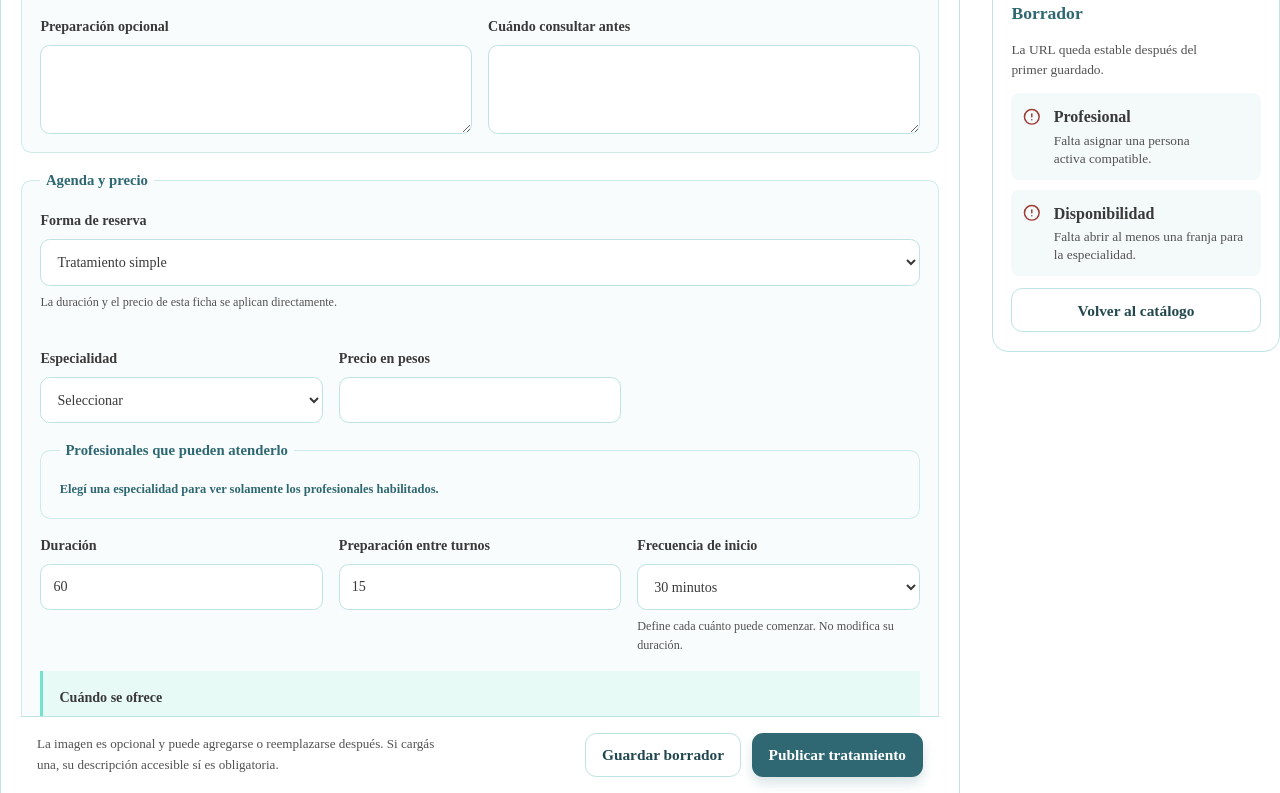
TreatmentEditor › only offers professionals enabled for the selected specialty
This screenshot has width=1280, height=793.
(page scrolled)
Expected: the text "Elegí una especialidad para ver solamente" is shown, [60,482,439,496]
Select "Masoterapia" in the dropdown labelled "Especialidad" at x=182, y=400, box [40,376,323,423]
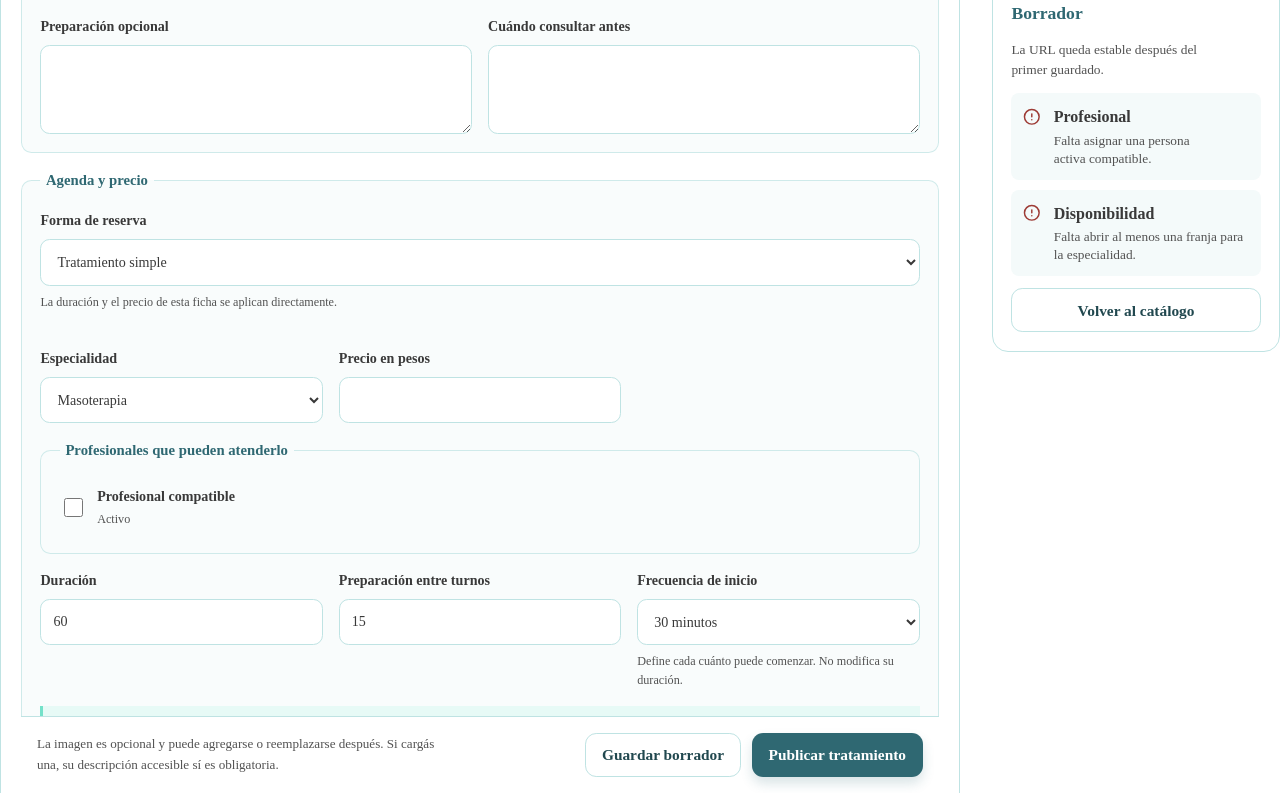
Now the checkbox labelled "Profesional compatible Activo" is enabled, box [64,498,83,517]
